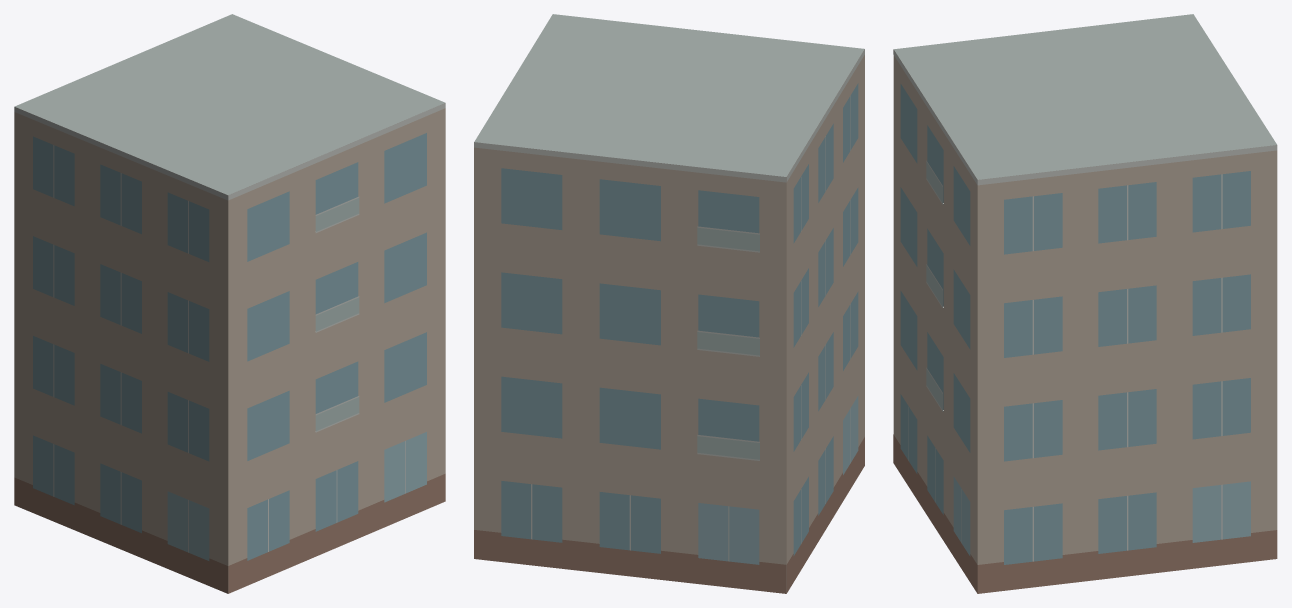
File: survey-upis-32704231.glb
3 views of the same model, side by side, from view 1: azimuth 30°, elevation 25°; view 2: azimuth 150°, elevation 25°; view 3: azimuth 270°, elevation 25° (orthographic). The views are drawn at different scales.
Parts seen in each view (by area): view 1: survey-upis-32704231.tmp; view 2: survey-upis-32704231.tmp; view 3: survey-upis-32704231.tmp.
Part boxes in pixels (x1,y1,x2,y2): survey-upis-32704231.tmp: [14, 14, 445, 593]; survey-upis-32704231.tmp: [474, 14, 864, 593]; survey-upis-32704231.tmp: [893, 14, 1277, 593].
Bounding box in the file's own units: 15.91 × 18.5 × 15.55.
